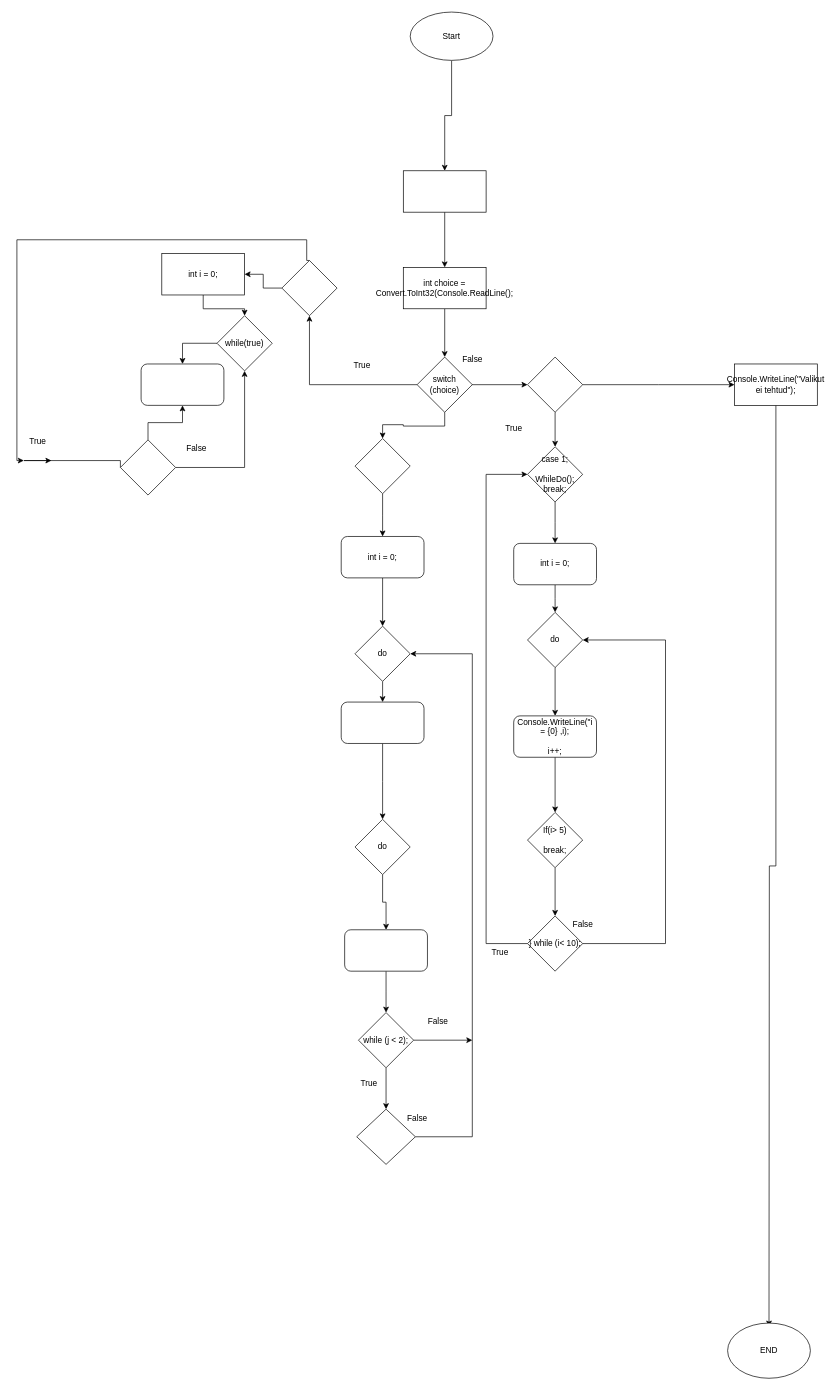
The diagram is 836 pixels wide and 1390 high, and some of its shapes have lost their labels. Each missing label, with the centre of its shape:
case 2; WhileDoInsideWhiledo() break;: (382,466)
case 3 Whilemethod ()break: (309,288)
Console.WriteLine("Hello world!): (444,191)
Console.WriteLine("i = {0}" ,i); j++;: (385,950)
Console.WriteLine("i ={0} , i); i++;: (182,384)
Console.WriteLine("Value of i: [0} ,i); int j = i; i++;: (382,722)
default: (555,384)
if (i>10) break;: (148,467)
while (i < 2);: (385,1136)
